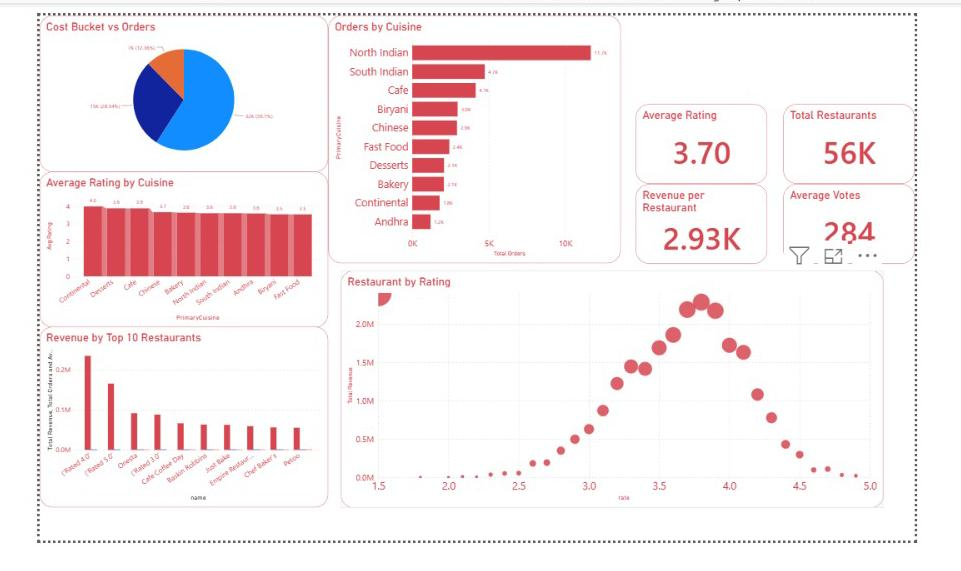

What the dashboard file says about the page in this screenshot:
{"tool":"powerbi","page":{"name":"Restaurant Performance","canvas":[2000,1200],"ordinal":2},"visuals":[{"type":"cardVisual","title":"Total  Restaurants","fields":{"Data":["Orders.Total Restaurants"]},"box":[1700,203.7,300,181.5],"z":0},{"type":"cardVisual","title":"Average Rating","fields":{"Data":["Orders.Avg Rating"]},"box":[1363,203.7,300,181.5],"z":1000},{"type":"cardVisual","title":"Average Votes","fields":{"Data":["Orders.Avg Votes"]},"box":[1700,385.2,300,181.5],"z":2000},{"type":"cardVisual","title":"Revenue per Restaurant","fields":{"Data":["Orders.Revenue per Restaurant"]},"box":[1363,385.2,300,181.5],"z":3000},{"type":"barChart","title":"Orders by Cuisine","fields":{"Category":["Restaurants.PrimaryCuisine"],"Y":["Orders.Total Orders"]},"box":[659.6,0,668.1,566],"z":4000},{"type":"clusteredColumnChart","title":"Revenue by Top 10 Restaurants","fields":{"Category":["Restaurants.name"],"Y":["Orders.Total Revenue","Orders.Total Orders","Orders.Avg Rating"]},"box":[0,712.8,659.6,412.8],"z":5000},{"type":"columnChart","title":"Average Rating by Cuisine","fields":{"Category":["Restaurants.PrimaryCuisine"],"Y":["Orders.Avg Rating"]},"box":[0,357.4,659.6,355.3],"z":6000},{"type":"scatterChart","title":"Restaurant by Rating ","fields":{"X":["Restaurants.rate"],"Y":["Orders.Total Revenue"],"Size":["Orders.Total Orders"]},"box":[687.2,583,1240.4,542.6],"z":7000},{"type":"pieChart","title":"Cost Bucket vs Orders","fields":{"Category":["Restaurants.Cost Bucket"],"Y":["Orders.Total Orders"]},"box":[0,0,659.6,357.4],"z":8000}]}

Visuals, with their boxes in screenshot pixels (x1, y1, x2, y2), scaled from the page's 2000x1200 canvas onto the 961x571 screenshot:
"Total  Restaurants" cardVisual: [x1=817, y1=97, x2=960, y2=183]
"Average Rating" cardVisual: [x1=655, y1=97, x2=799, y2=183]
"Average Votes" cardVisual: [x1=817, y1=183, x2=960, y2=270]
"Revenue per Restaurant" cardVisual: [x1=655, y1=183, x2=799, y2=270]
"Orders by Cuisine" barChart: [x1=317, y1=0, x2=638, y2=269]
"Revenue by Top 10 Restaurants" clusteredColumnChart: [x1=0, y1=339, x2=317, y2=536]
"Average Rating by Cuisine" columnChart: [x1=0, y1=170, x2=317, y2=339]
"Restaurant by Rating " scatterChart: [x1=330, y1=277, x2=926, y2=536]
"Cost Bucket vs Orders" pieChart: [x1=0, y1=0, x2=317, y2=170]
